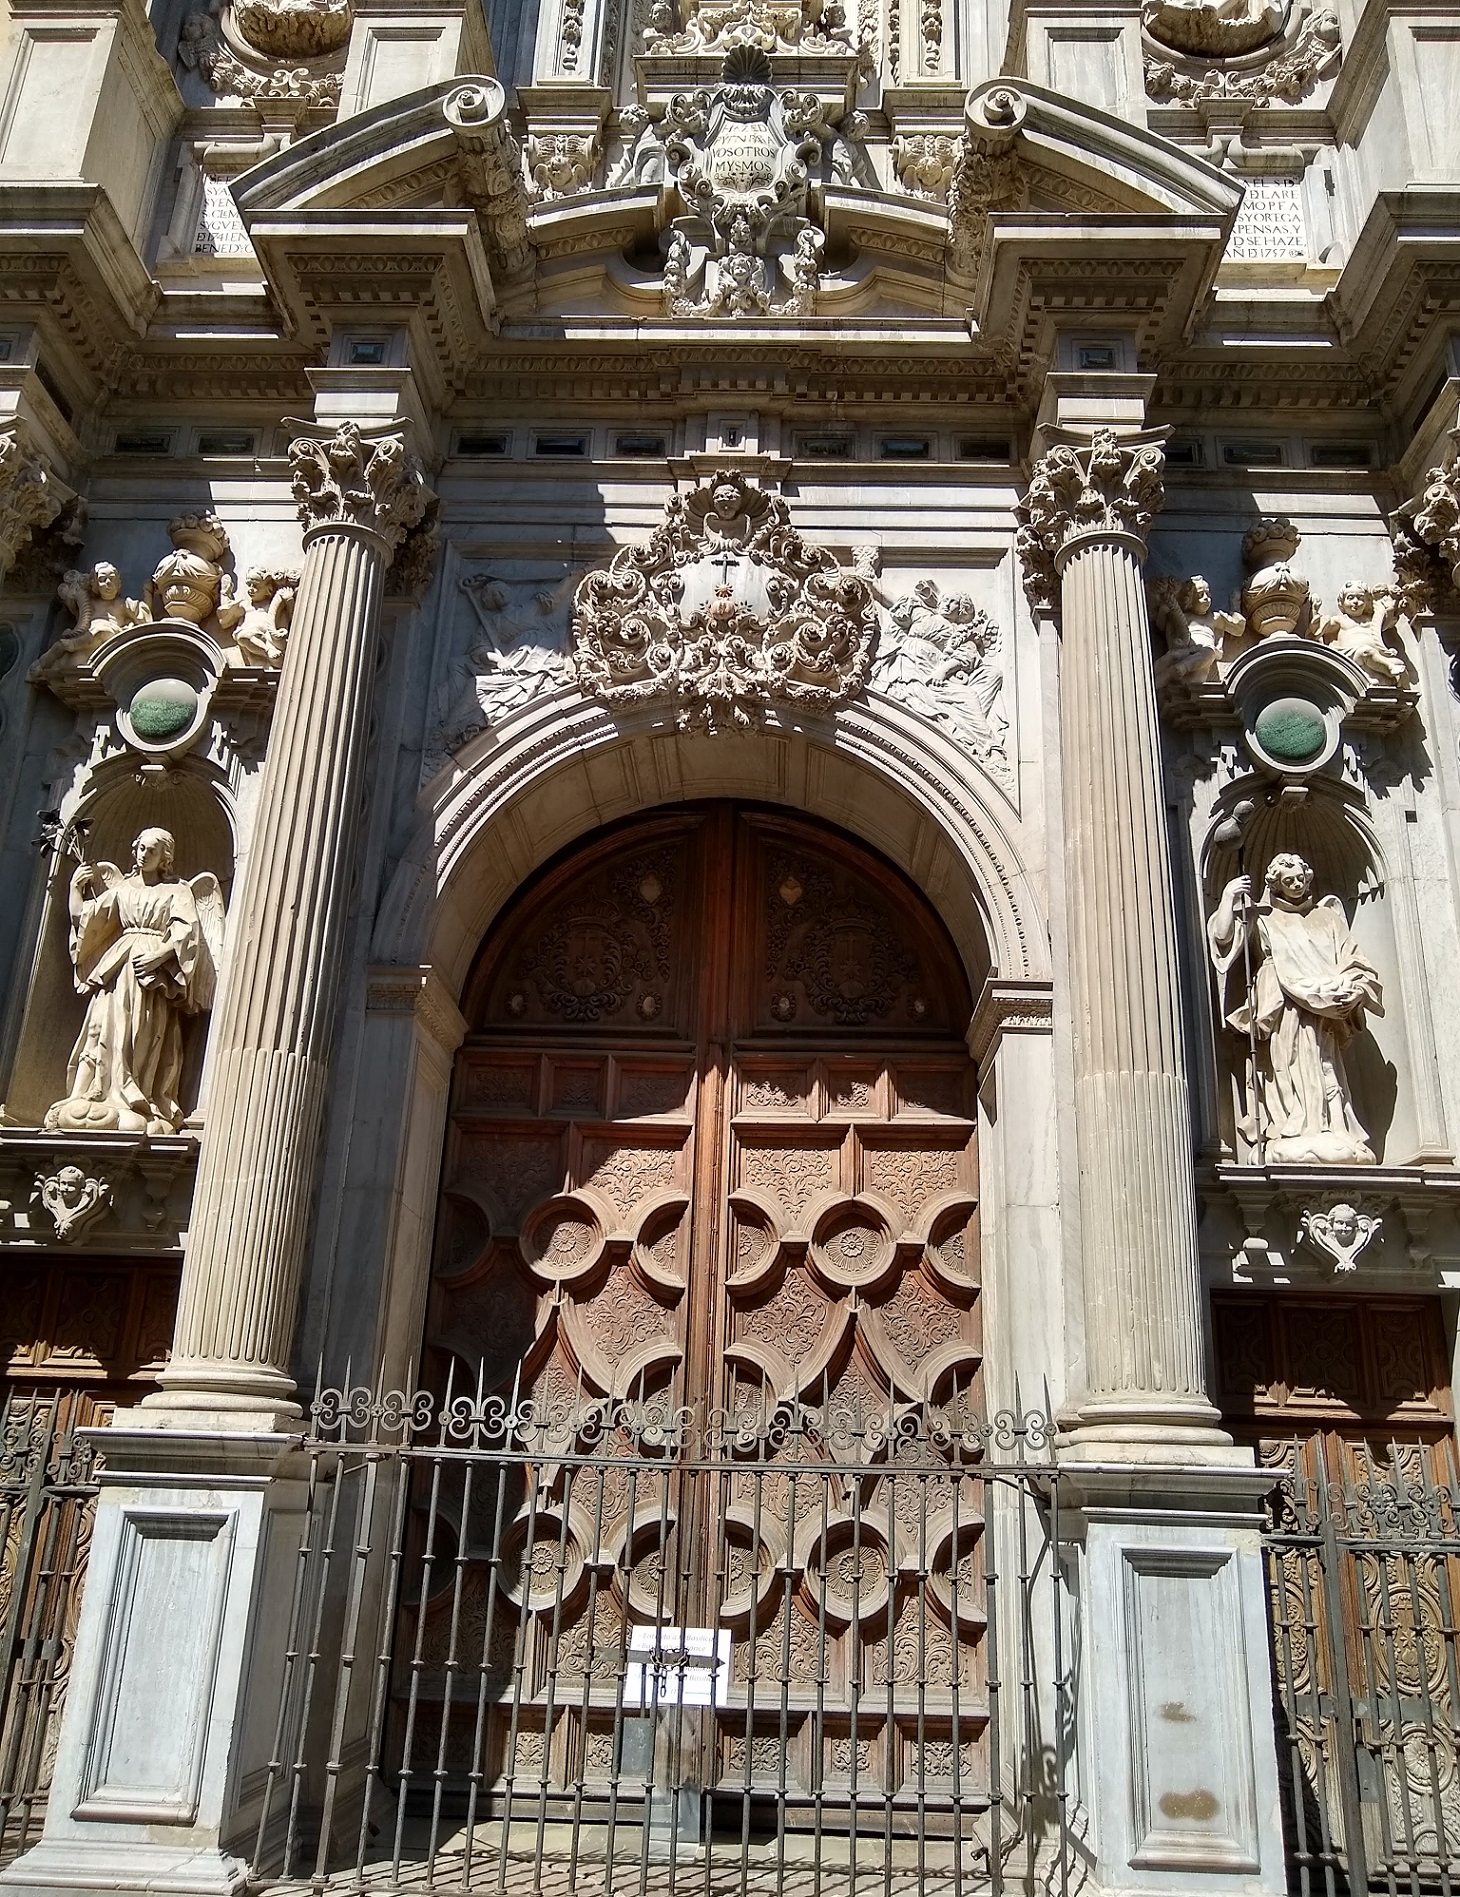arco-medio-punto: (413, 712, 1031, 1061)
fronton-partido: (212, 67, 1271, 268)
